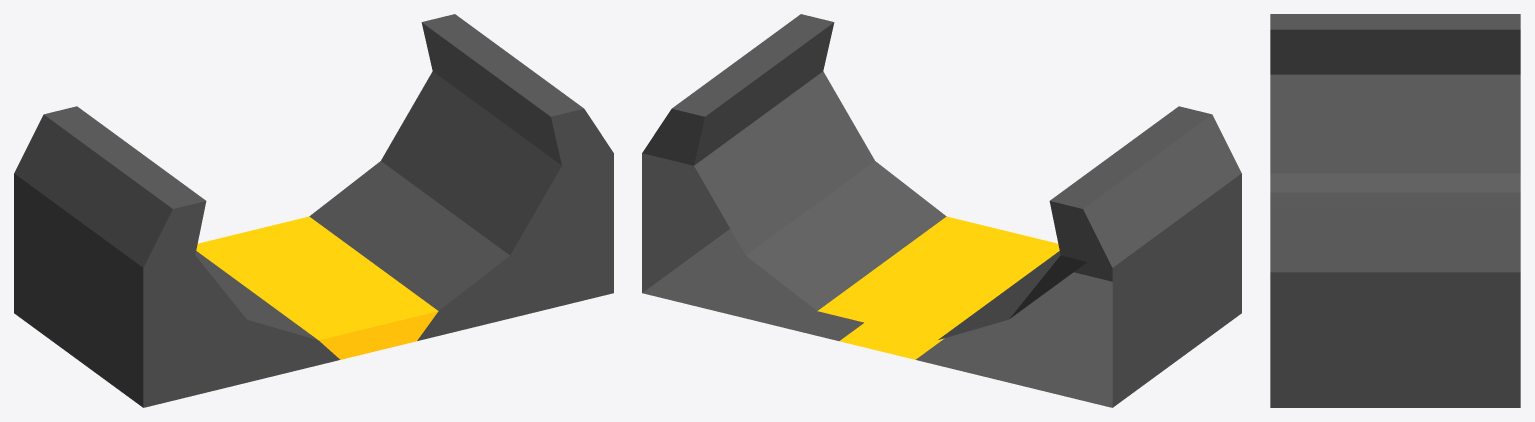
The model's file is Spline_Slip_Closed_2.fbx.
The picture shows the model from 3 angles, left to right: view 1: azimuth 30°, elevation 25°; view 2: azimuth 150°, elevation 25°; view 3: azimuth 270°, elevation 25°; orthographic projection. The views are drawn at different scales.
Visible parts, largest first — view 1: Spline_Slip_Closed 2; view 2: Spline_Slip_Closed 2; view 3: Spline_Slip_Closed 2.
Boxes of the visible parts, x1,y1,x2,y2 form: Spline_Slip_Closed 2: [14, 14, 613, 407]; Spline_Slip_Closed 2: [642, 14, 1241, 407]; Spline_Slip_Closed 2: [1270, 14, 1520, 407].
Size of the model in its own units: 2100 by 818 by 1000.
